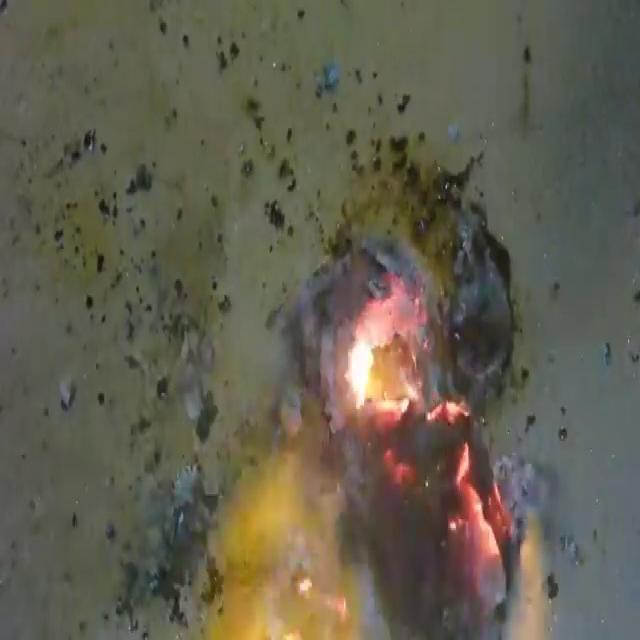Fire: (179, 134, 572, 640)
